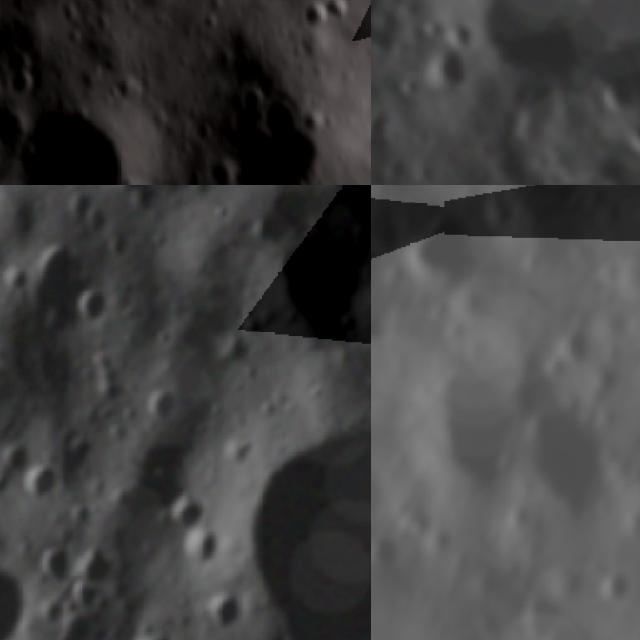crater: (228, 406, 371, 640), (380, 339, 536, 516), (217, 59, 351, 185), (499, 396, 619, 527), (255, 230, 371, 358), (490, 185, 616, 299), (9, 101, 160, 185), (392, 198, 498, 304), (12, 236, 78, 330), (416, 48, 476, 108), (510, 580, 569, 640), (384, 485, 438, 549), (371, 188, 411, 262), (549, 318, 600, 375), (452, 276, 503, 332), (139, 382, 195, 431), (0, 565, 36, 640), (191, 590, 244, 640), (60, 192, 114, 236), (474, 186, 521, 234), (529, 610, 600, 640), (615, 458, 640, 538), (15, 465, 62, 507), (170, 490, 210, 538), (457, 331, 501, 374), (495, 494, 540, 536), (66, 284, 107, 330), (588, 255, 632, 296), (294, 0, 336, 42), (409, 15, 452, 56), (445, 15, 487, 54), (494, 547, 534, 587), (371, 528, 401, 581), (66, 432, 104, 472), (321, 0, 370, 31), (0, 442, 37, 480), (114, 185, 172, 209), (37, 544, 70, 582), (371, 309, 395, 355), (387, 75, 419, 106), (128, 623, 173, 640), (371, 110, 389, 147)
